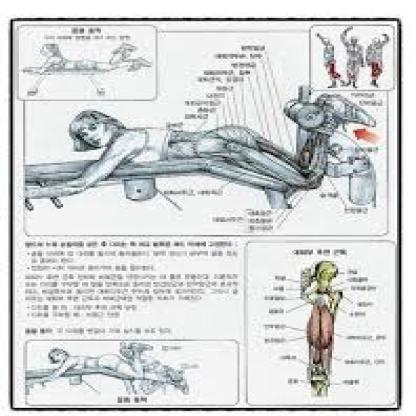reg curl machine: (18, 82, 376, 216)
